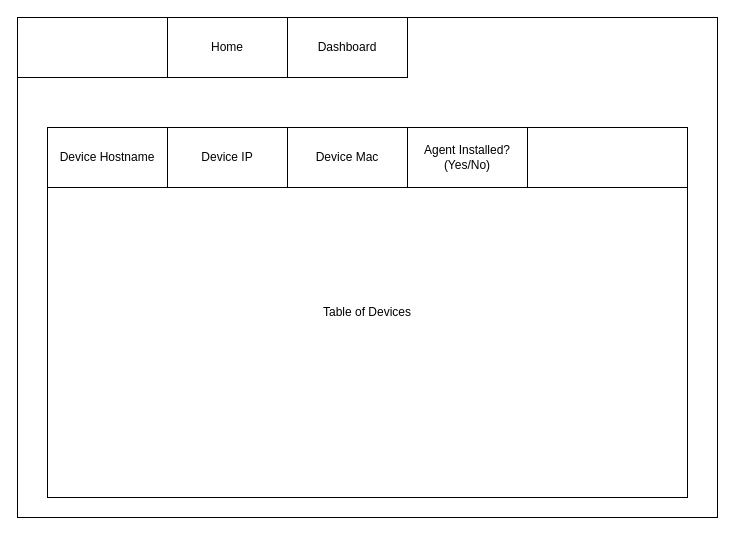
The diagram is 735 pixels wide and 535 high, and some of its shapes have lost their labels. The shapes that lost their labels are listed below. From the top down, each one's centre as x and y in pixels, then its label:
At (92,47): "WebPage Title (LanMan)".
At (607,157): "Comments / Description".
